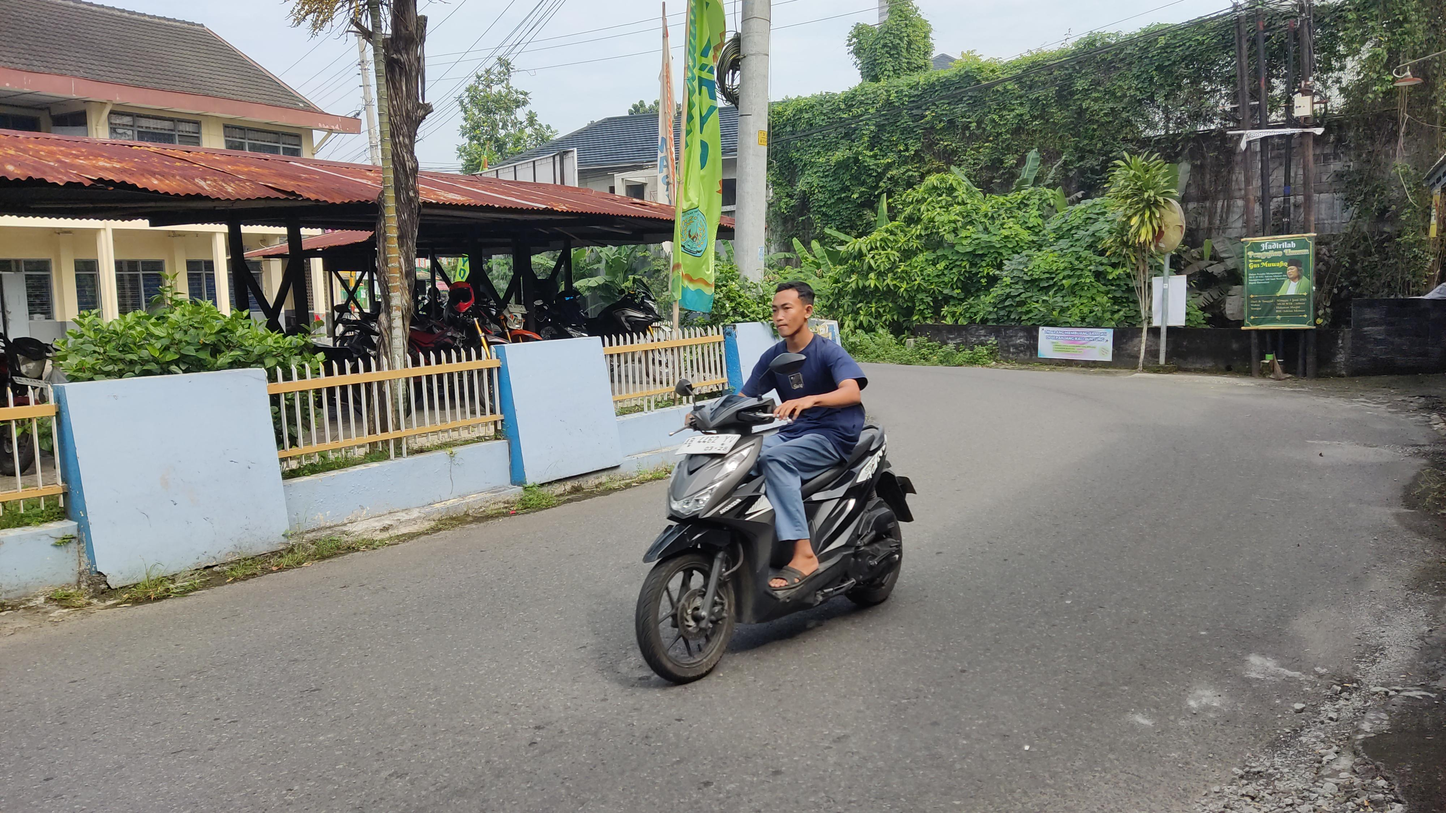nohelm: (771, 280, 818, 339)
riding: (634, 279, 919, 685)
